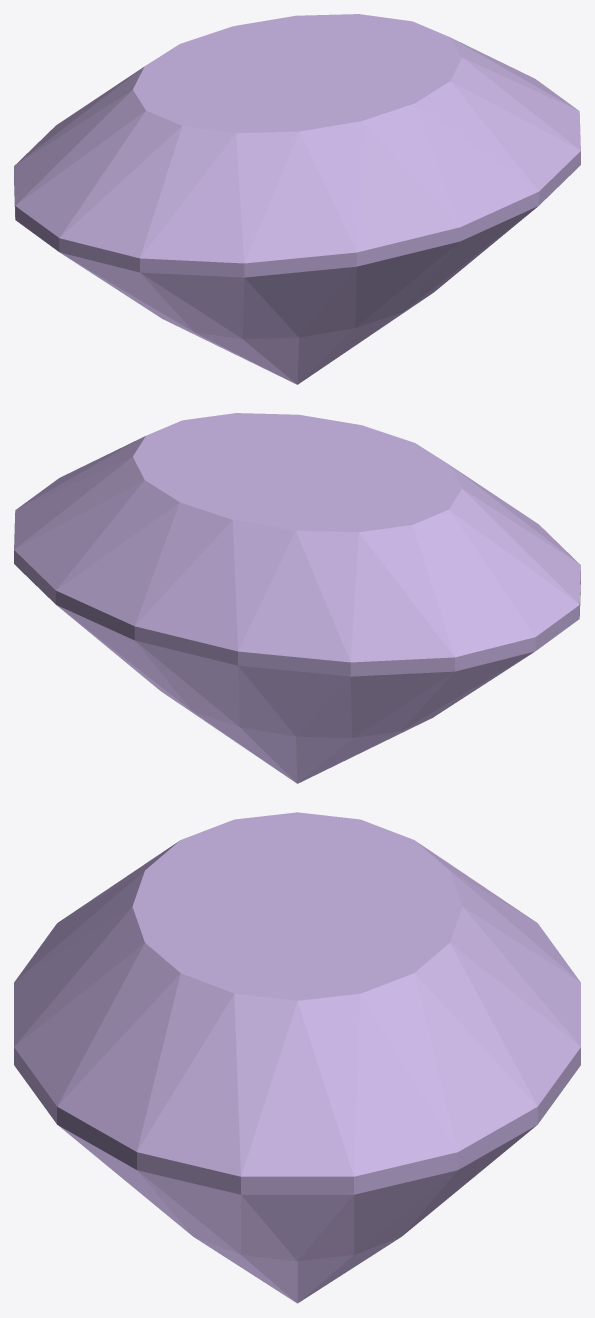
The model's file is amethyst.glb.
3 views of the same model, one above another, from view 1: azimuth 30°, elevation 25°; view 2: azimuth 150°, elevation 25°; view 3: azimuth 270°, elevation 25° (orthographic). The views are drawn at different scales.
Parts seen in each view (by area): view 1: amethyst; view 2: amethyst; view 3: amethyst.
Boxes of the visible parts, <box> form: amethyst: <box>14,14,580,384</box>; amethyst: <box>14,413,580,783</box>; amethyst: <box>14,812,580,1303</box>.
Size of the model in its own units: 0.25 by 0.1429 by 0.185.
